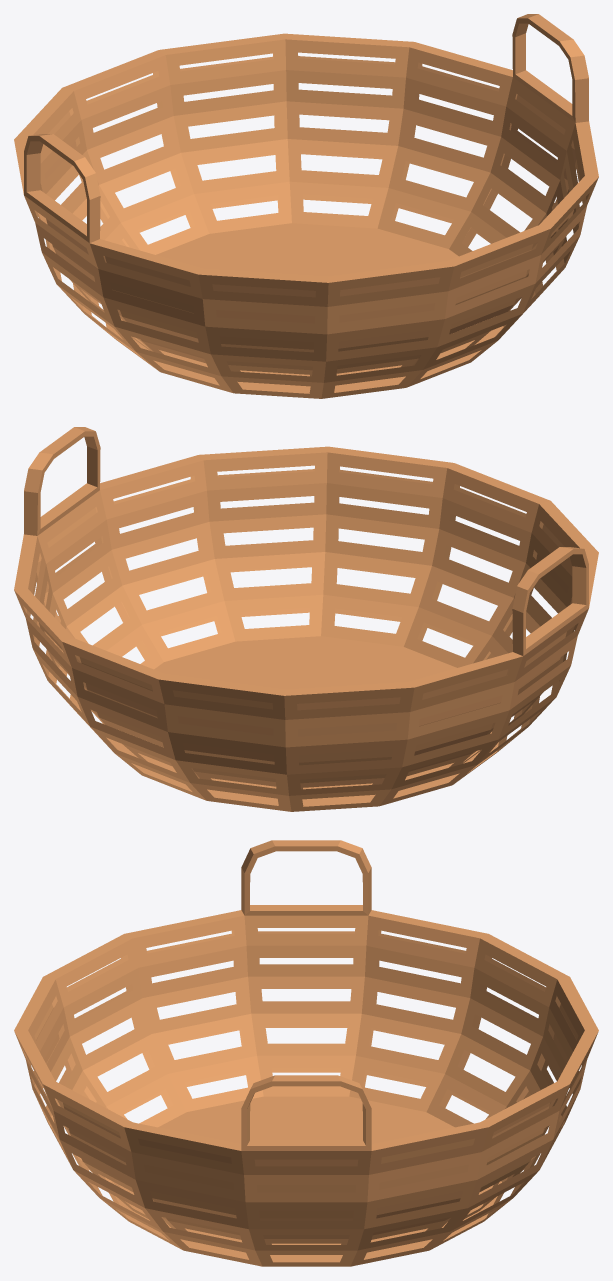
Rendered from basketModel.fbx.
3 views of the same model, one above another, from view 1: azimuth 30°, elevation 25°; view 2: azimuth 150°, elevation 25°; view 3: azimuth 270°, elevation 25° (orthographic).
Visible parts, largest first — view 1: Cube; view 2: Cube; view 3: Cube.
Boxes of the visible parts, left/top/right/bottom form: Cube: left=14, top=14, right=598, bottom=398; Cube: left=14, top=427, right=598, bottom=811; Cube: left=14, top=840, right=598, bottom=1266.
Bounding box in the file's own units: 152 × 66.17 × 156.
